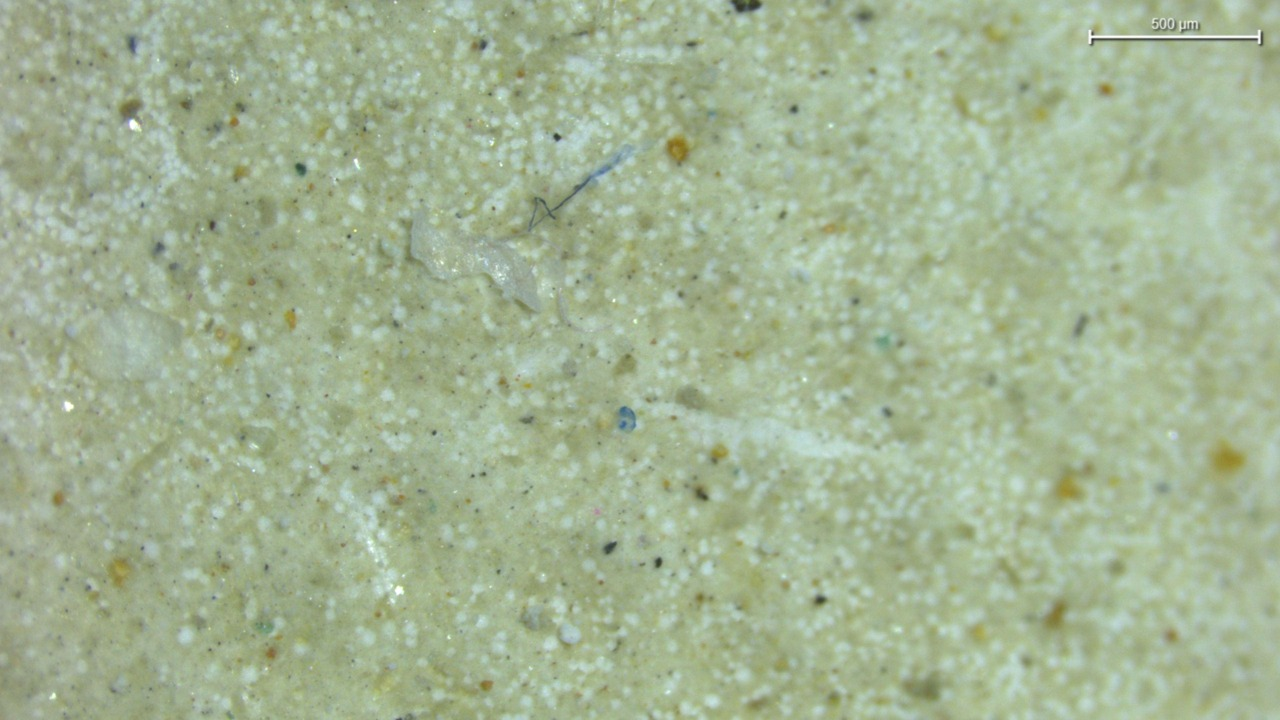microplastic_fragment: (410, 210, 541, 311), (74, 301, 182, 380), (519, 605, 543, 630), (559, 624, 581, 645)
